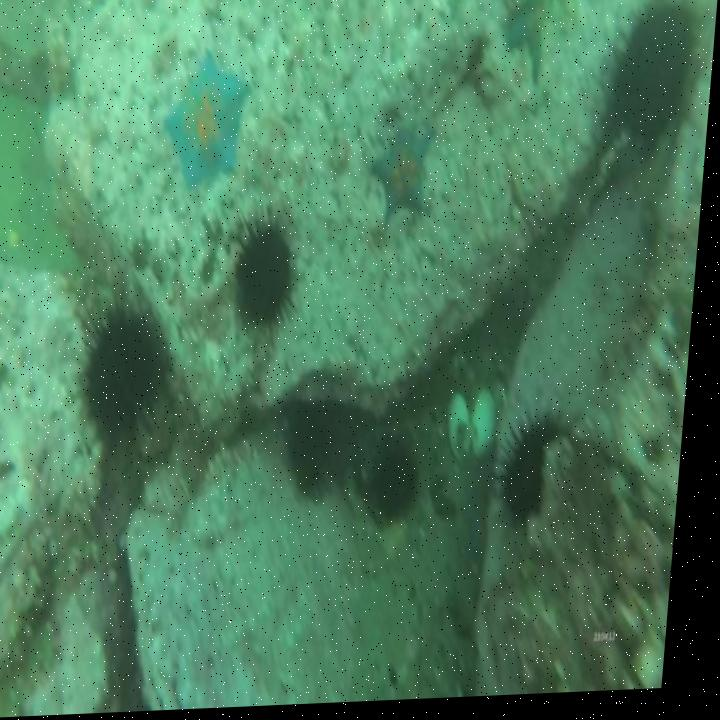echinus: (615, 10, 697, 140), (90, 319, 166, 426), (240, 228, 299, 323), (512, 420, 559, 521), (294, 407, 340, 490), (382, 454, 427, 519)
scallop: (452, 394, 508, 469)
starfish: (165, 62, 251, 188), (373, 132, 438, 223), (506, 0, 553, 89)
